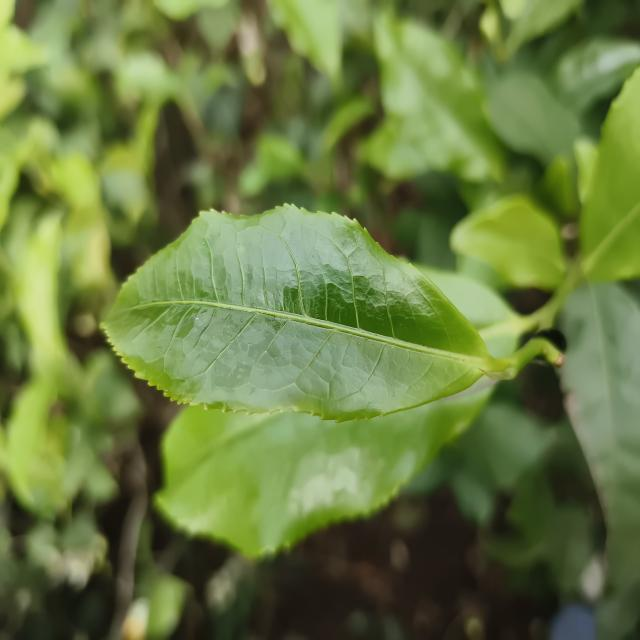Leaf: (104, 205, 511, 421), (155, 377, 497, 558), (561, 284, 640, 591), (374, 14, 502, 181), (580, 69, 640, 281), (451, 195, 565, 290), (418, 265, 526, 357), (487, 69, 580, 165), (555, 37, 640, 109), (270, 0, 342, 82)
